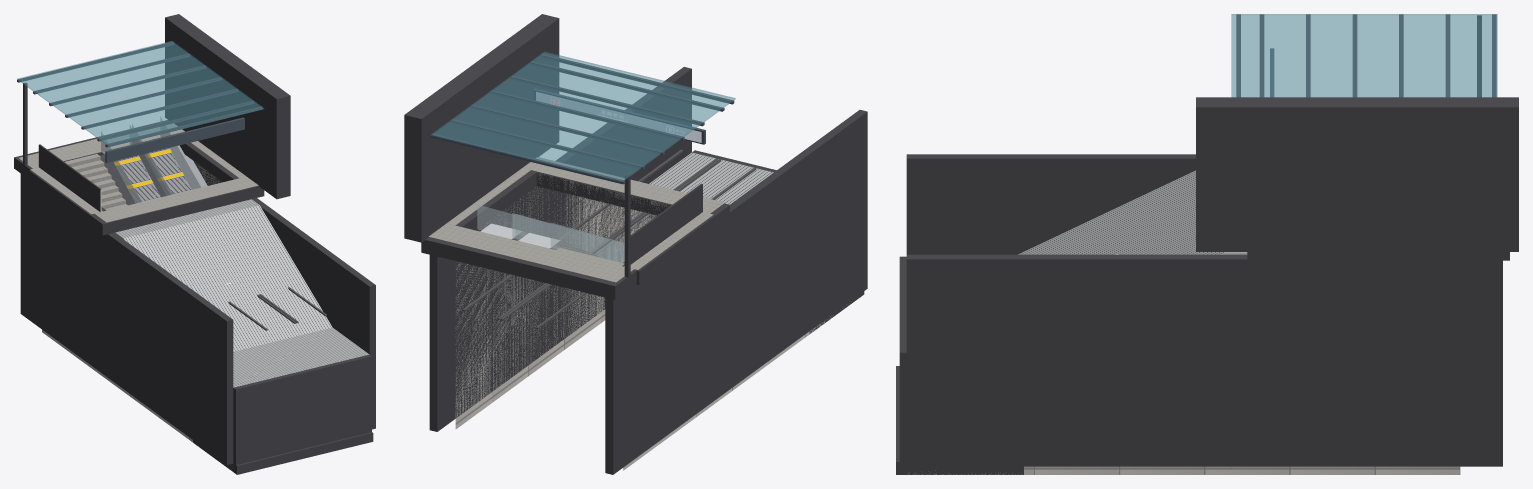
File: wl80-r3-game-metro-assets-exit_longxiangqiao_b.glb
3 views of the same model, side by side, from view 1: azimuth 30°, elevation 25°; view 2: azimuth 150°, elevation 25°; view 3: azimuth 270°, elevation 25° (orthographic). The views are drawn at different scales.
Visible parts, largest first — view 1: ex_col, ex_shaft, ex_kiosk, landing_cap_col; view 2: ex_col, ex_kiosk, ex_shaft; view 3: ex_col, ex_kiosk, ex_shaft, landing_cap_col.
Part boxes in pixels (x1,y1,x2,y2): ex_col: [14, 14, 375, 474]; ex_shaft: [42, 119, 369, 471]; ex_kiosk: [17, 41, 263, 222]; landing_cap_col: [233, 354, 371, 464]; ex_col: [404, 14, 867, 474]; ex_kiosk: [429, 51, 735, 282]; ex_shaft: [455, 149, 832, 470]; ex_col: [896, 15, 1518, 474]; ex_kiosk: [1231, 14, 1497, 97]; ex_shaft: [907, 170, 1460, 474]; landing_cap_col: [899, 256, 906, 461].
Bounding box in the file's own units: 8 × 11.9 × 17.55.
Materials: 15 (7 with a texture image).
